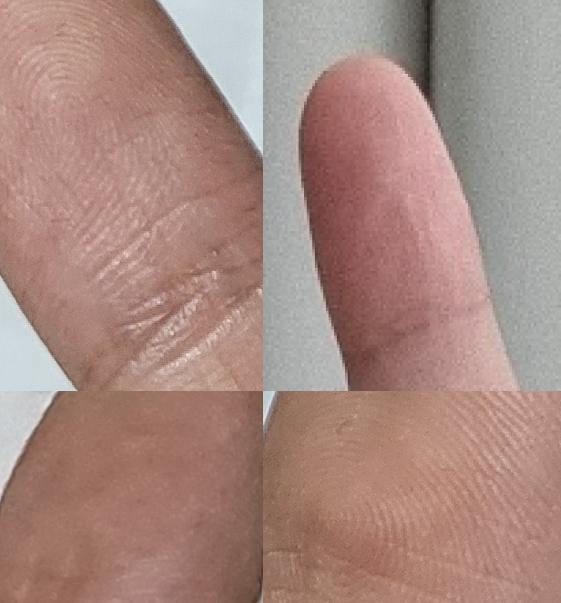Fingerprints: (263, 391, 561, 603), (299, 55, 489, 361), (0, 391, 263, 603)
